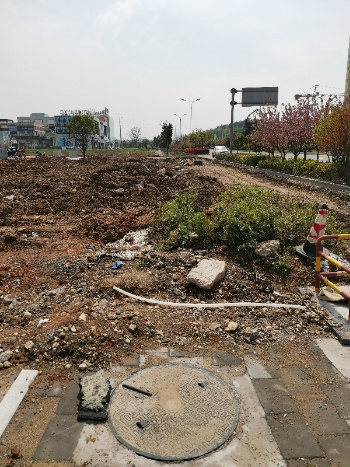good: (108, 366, 245, 455)
